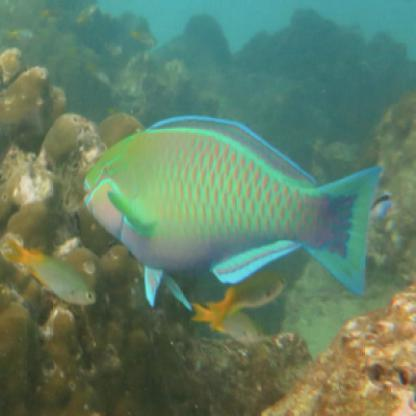Bio: (78, 105, 383, 312)
